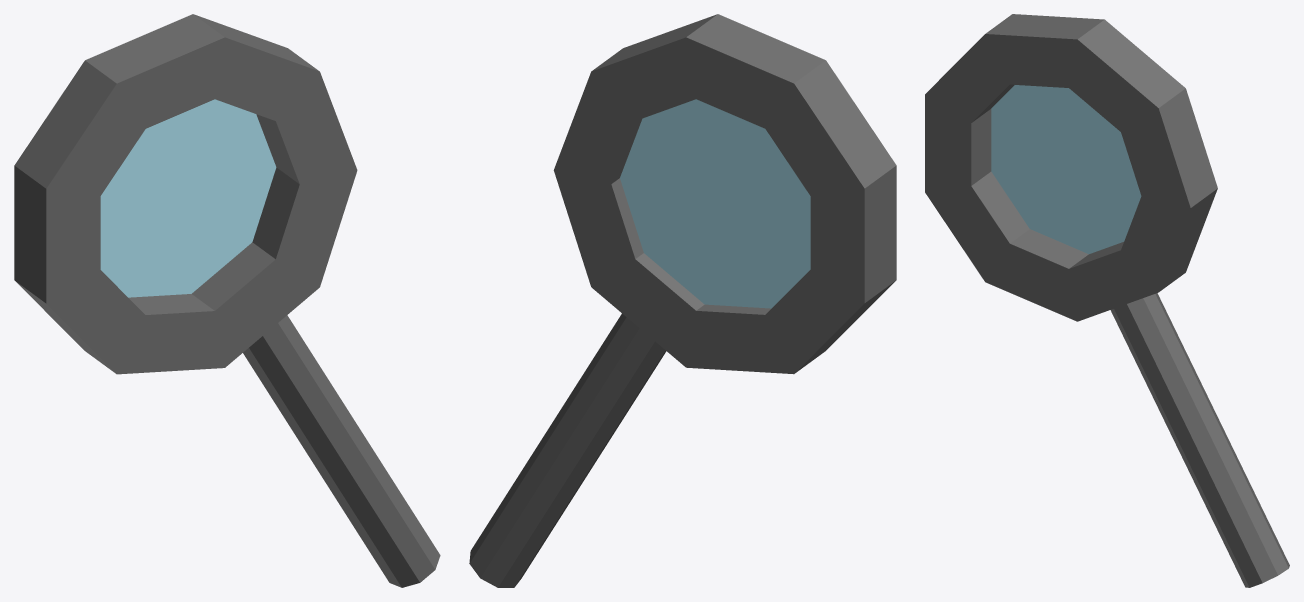
The model's file is Magnify Glass.fbx.
The picture shows the model from 3 angles, left to right: view 1: azimuth 30°, elevation 25°; view 2: azimuth 150°, elevation 25°; view 3: azimuth 330°, elevation 25°; orthographic projection. The views are drawn at different scales.
Parts seen in each view (by area): view 1: Model; view 2: Model; view 3: Model.
Boxes of the visible parts, bbox=[...] form: Model: bbox=[14, 14, 440, 587]; Model: bbox=[469, 14, 896, 587]; Model: bbox=[925, 14, 1289, 587].
Bounding box in the file's own units: 74.94 × 107 × 10.19.
